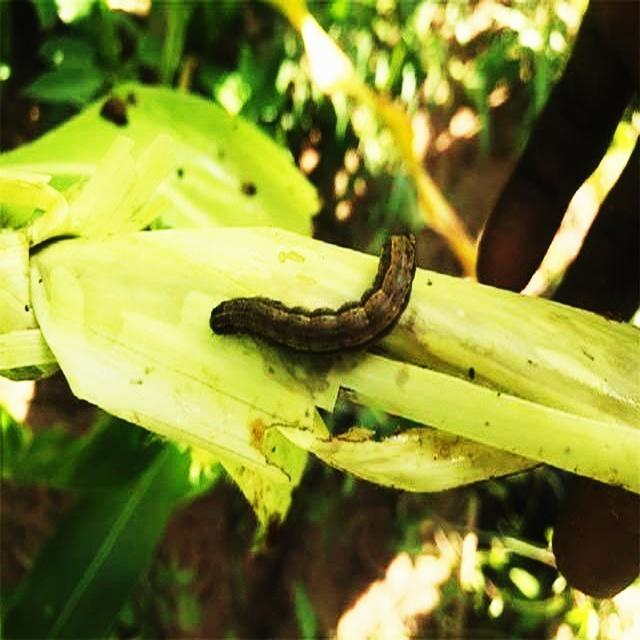gusano_cogollero: (208, 227, 416, 360)
